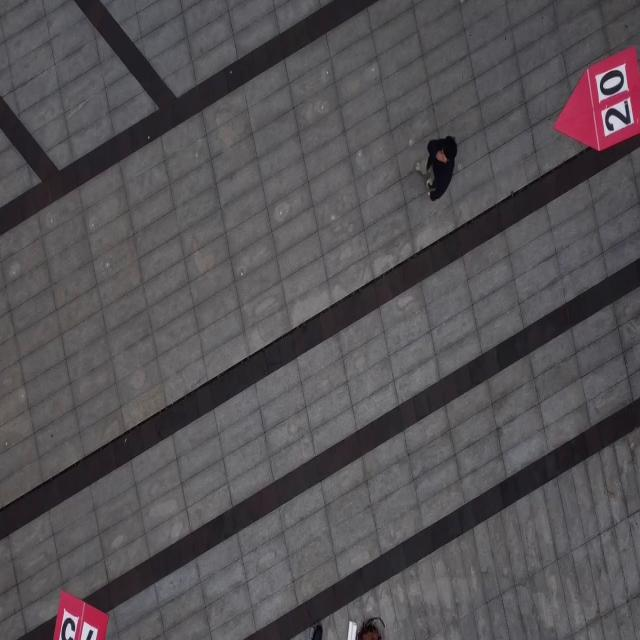-sign-: (553, 43, 639, 153)
